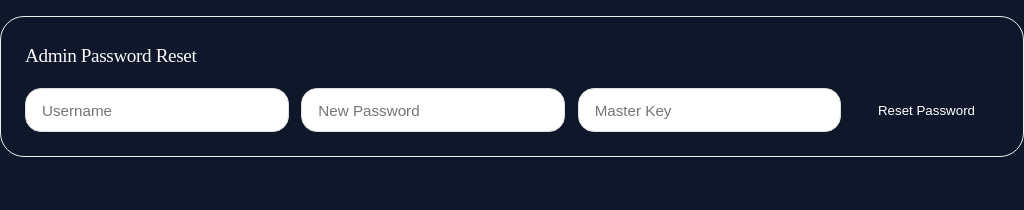
AdminResetForm Component › handles form submission success
Type "alice" into the field with placeholder "Username" at (157, 110), box [25, 88, 288, 132]
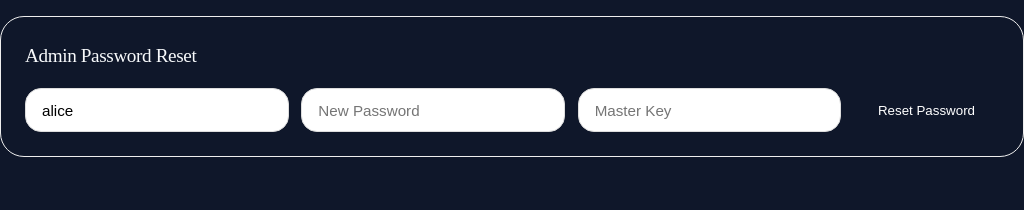
Type "secret" into the password field with placeholder "New Password" at (433, 110), box [301, 88, 565, 132]
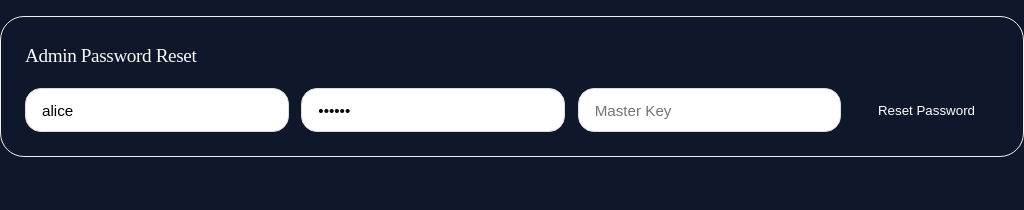
Type "1234" into the field with placeholder "Master Key" at (709, 110), box [578, 88, 841, 132]
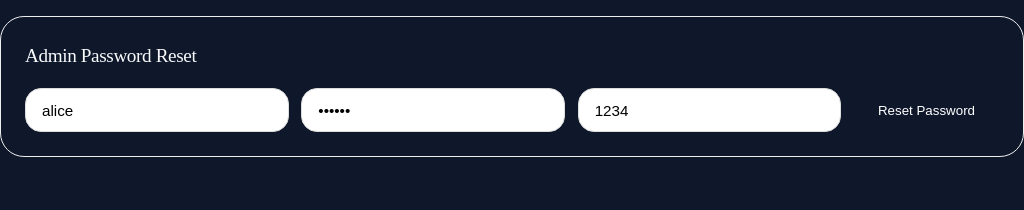
Click the button "Reset Password" at (926, 110), box [854, 90, 999, 130]
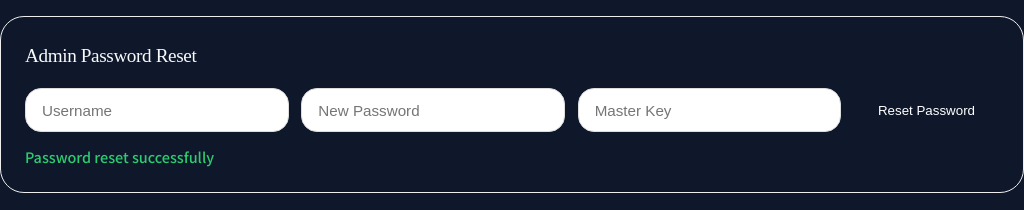
Now the text "Password reset successfully" is shown, box [25, 146, 214, 167]
Now the field with placeholder "Username" is empty, box [25, 88, 288, 132]
